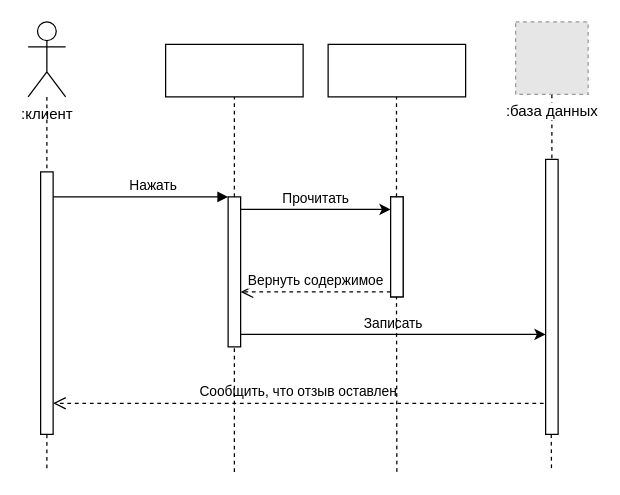
This 620x495 diagram has some shape labels left out. Grey dashed boxes stand in for pictures. Here are the shapes that lost their labels. From the top down, the box of each, then its label:
(164, 43, 303, 97): Отправить :button
(327, 43, 466, 97): Текстовое поле :textarea
